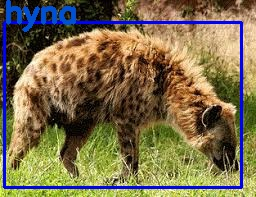hyna: (4, 22, 241, 186)
